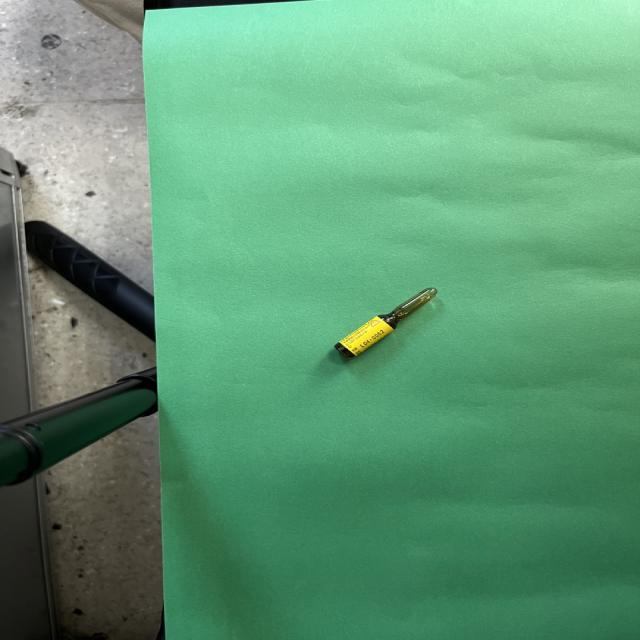Ampoules: (334, 288, 437, 358)
